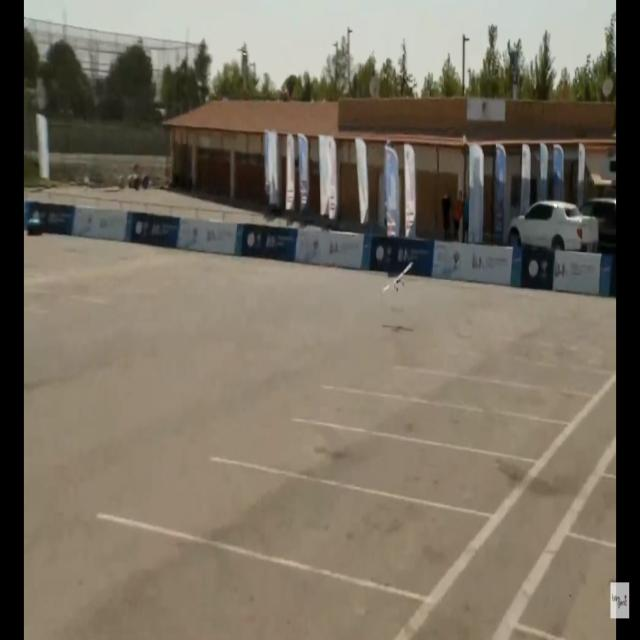iha: (381, 260, 413, 296)
